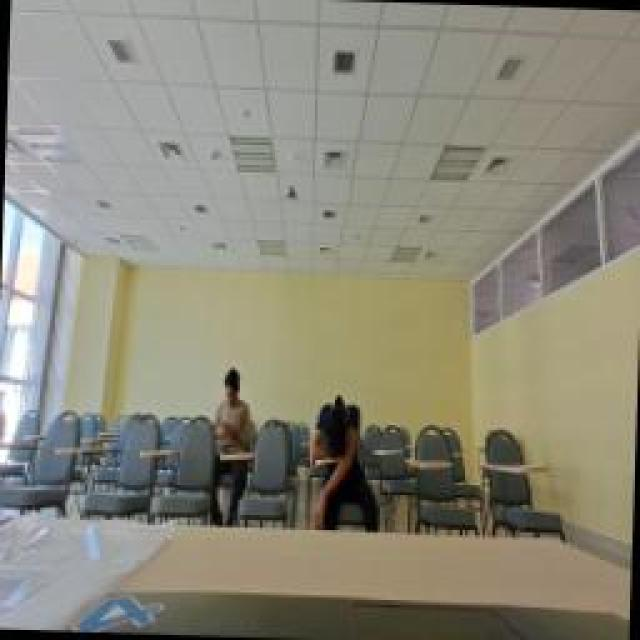phone: (210, 363, 252, 455)
sleep: (315, 395, 365, 467)
